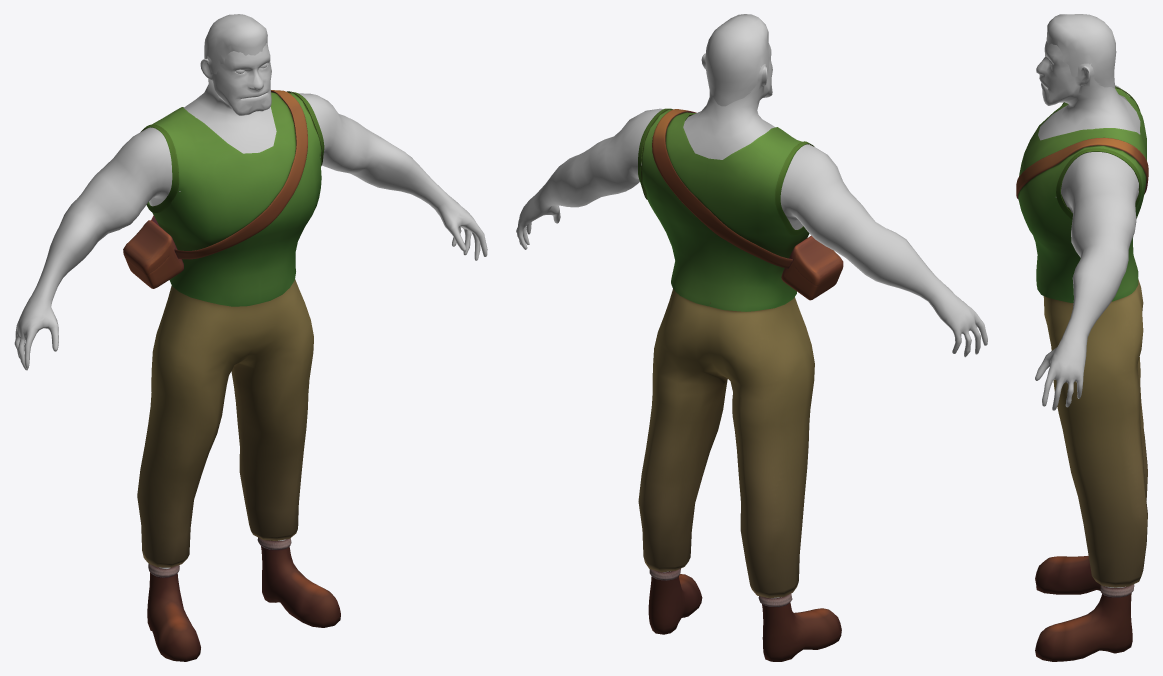
File: Pj2LOWFinalVersion.fbx
The picture shows the model from 3 angles, left to right: view 1: azimuth 30°, elevation 25°; view 2: azimuth 150°, elevation 25°; view 3: azimuth 270°, elevation 25°; orthographic projection.
Visible parts, largest first — view 1: pantalon_low, Body_low, Musculosa_low, Botas_low, Tirante_low, Bolsa_low, Pelo_low, MusculosaContorno_low; view 2: pantalon_low, Body_low, Musculosa_low, Botas_low, Pelo_low, Tirante_low, Bolsa_low, MusculosaContorno_low; view 3: pantalon_low, Body_low, Musculosa_low, Botas_low, Pelo_low, Tirante_low, MusculosaContorno_low, BotasPelo_low.
Boxes of the visible parts, left/top/right/bottom form: pantalon_low: left=137, top=279, right=313, bottom=567; Body_low: left=14, top=43, right=487, bottom=568; Musculosa_low: left=143, top=92, right=322, bottom=306; Botas_low: left=147, top=546, right=340, bottom=661; Tirante_low: left=151, top=90, right=307, bottom=259; Bolsa_low: left=123, top=220, right=183, bottom=288; Pelo_low: left=204, top=14, right=267, bottom=74; MusculosaContorno_low: left=141, top=91, right=324, bottom=212; pantalon_low: left=638, top=289, right=814, bottom=598; Body_low: left=516, top=43, right=987, bottom=598; Musculosa_low: left=641, top=109, right=809, bottom=311; Botas_low: left=648, top=574, right=841, bottom=661; Pelo_low: left=705, top=14, right=770, bottom=106; Tirante_low: left=652, top=109, right=792, bottom=268; Bolsa_low: left=781, top=235, right=843, bottom=300; MusculosaContorno_low: left=638, top=108, right=814, bottom=235; pantalon_low: left=1043, top=279, right=1147, bottom=587; Body_low: left=1035, top=41, right=1140, bottom=587; Musculosa_low: left=1018, top=87, right=1146, bottom=302; Botas_low: left=1035, top=555, right=1132, bottom=661; Pelo_low: left=1046, top=14, right=1116, bottom=88; Tirante_low: left=1016, top=137, right=1148, bottom=199; MusculosaContorno_low: left=1056, top=86, right=1141, bottom=219; BotasPelo_low: left=1100, top=584, right=1134, bottom=597.
Bounding box in the file's own units: 670 × 847 × 168.
